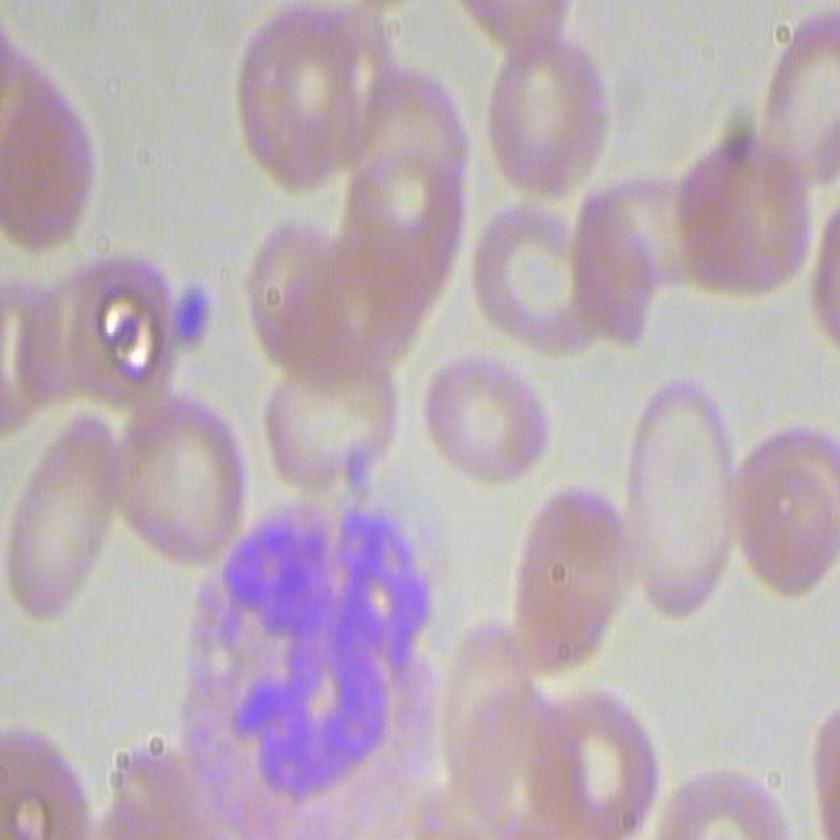neutrophil: (163, 460, 483, 840)
